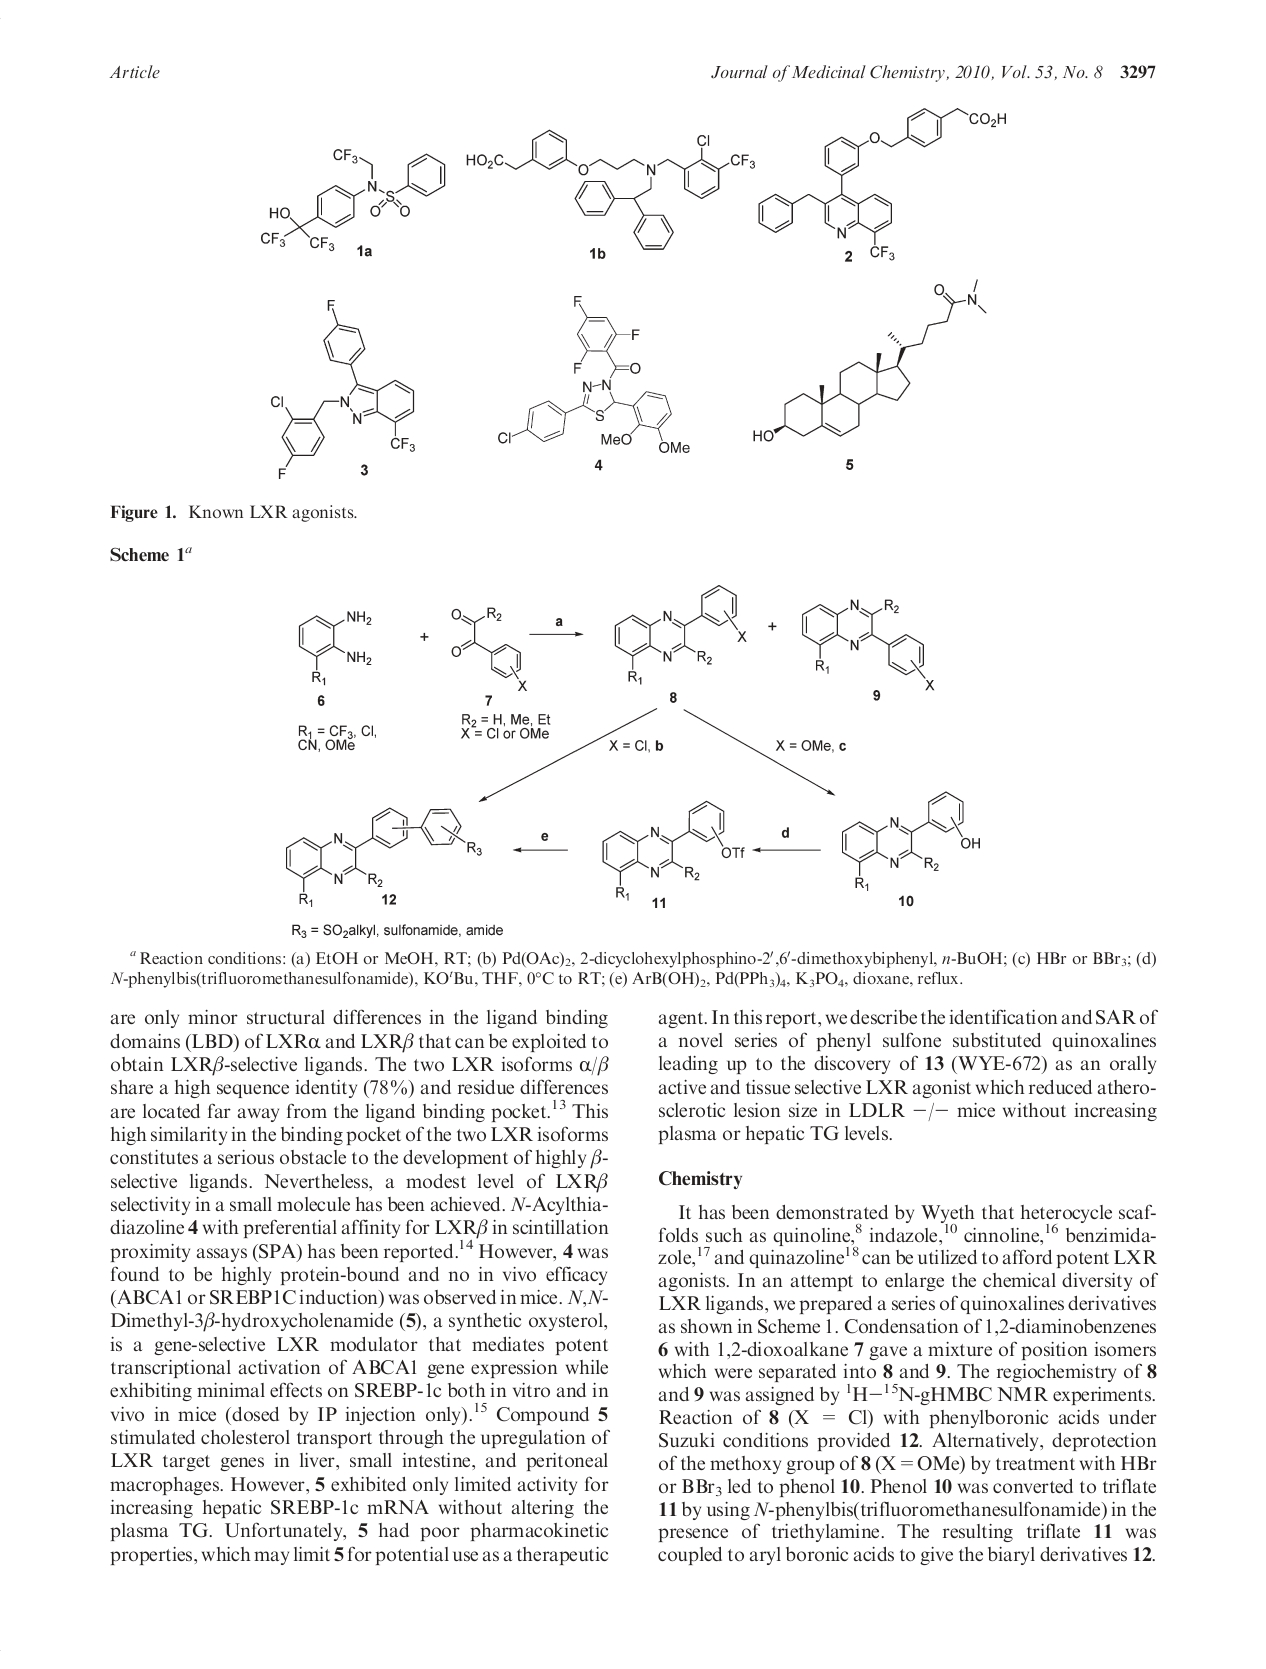exist_molecular: (463, 100, 755, 250), (747, 270, 989, 451), (755, 98, 1019, 265), (489, 293, 694, 461), (258, 291, 426, 489), (257, 136, 449, 258), (282, 801, 487, 908), (610, 575, 754, 692), (793, 590, 940, 701), (839, 786, 985, 892), (602, 795, 749, 900), (444, 594, 535, 696), (287, 605, 380, 696)
